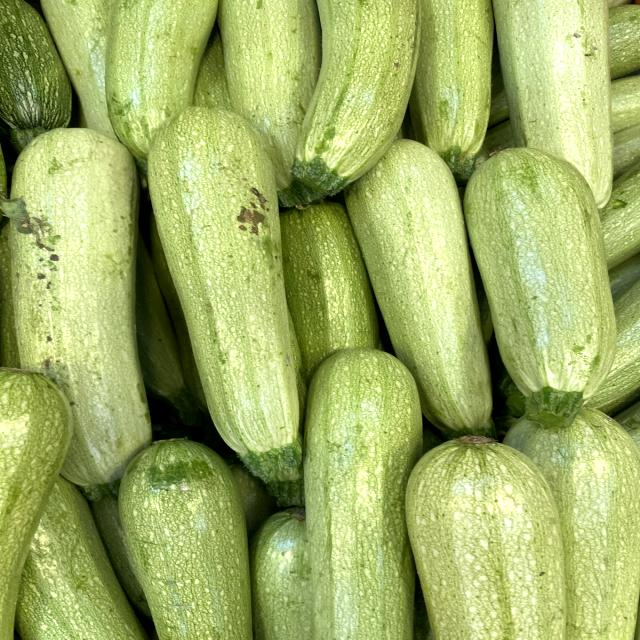zucchini: (141, 99, 324, 489), (0, 119, 160, 506), (450, 135, 630, 432)
